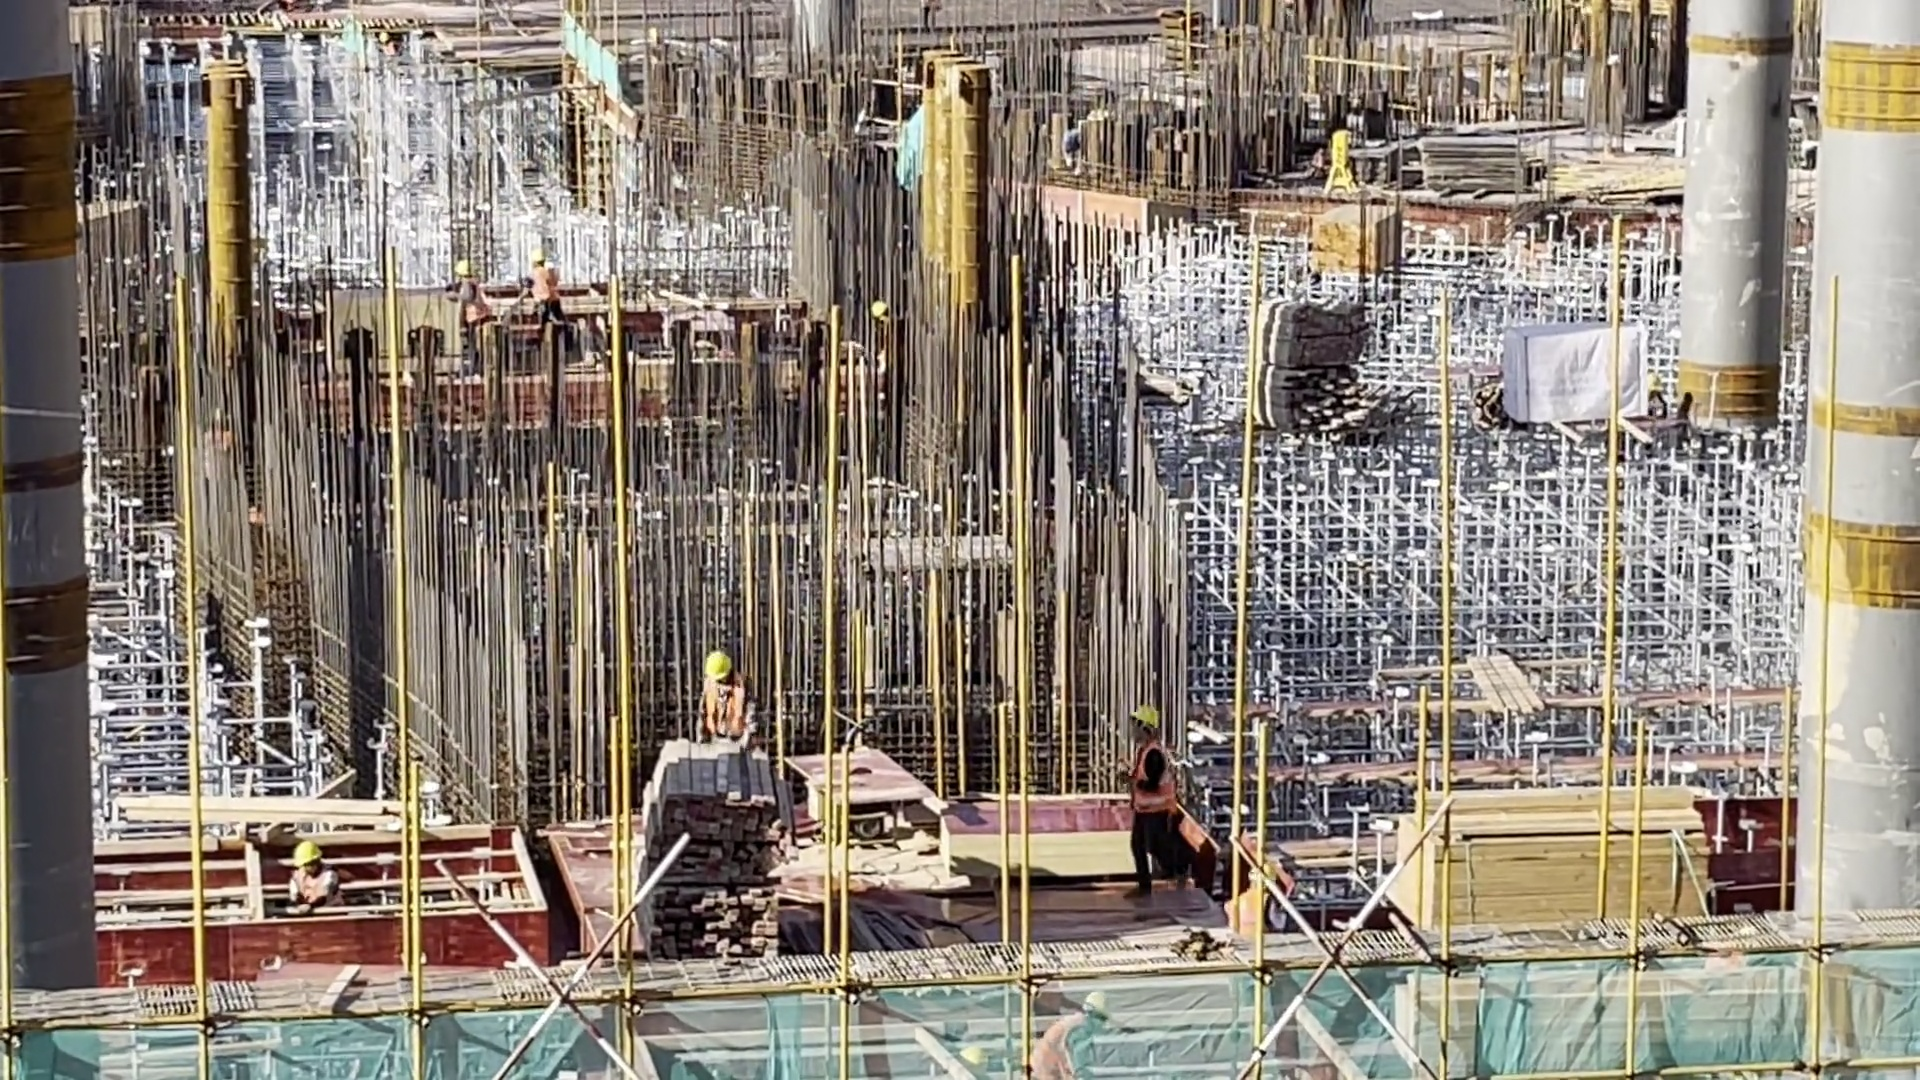helmet: (1125, 698, 1152, 730), (703, 649, 733, 676), (1091, 986, 1119, 1012), (285, 842, 318, 864), (532, 243, 552, 268), (456, 263, 480, 283)
person: (1111, 691, 1177, 869), (1028, 986, 1138, 1080), (258, 828, 344, 931), (691, 635, 759, 758), (514, 252, 584, 360), (432, 260, 484, 342)
vest: (696, 671, 752, 730), (1045, 1011, 1092, 1080), (1122, 741, 1169, 811), (452, 283, 495, 330), (291, 868, 334, 904), (533, 269, 559, 306)
